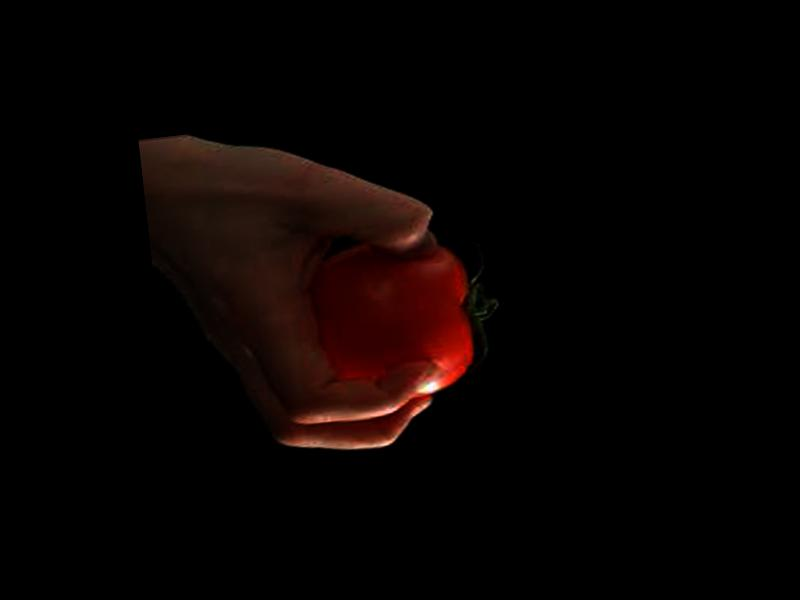Tomato: (311, 230, 504, 404)
